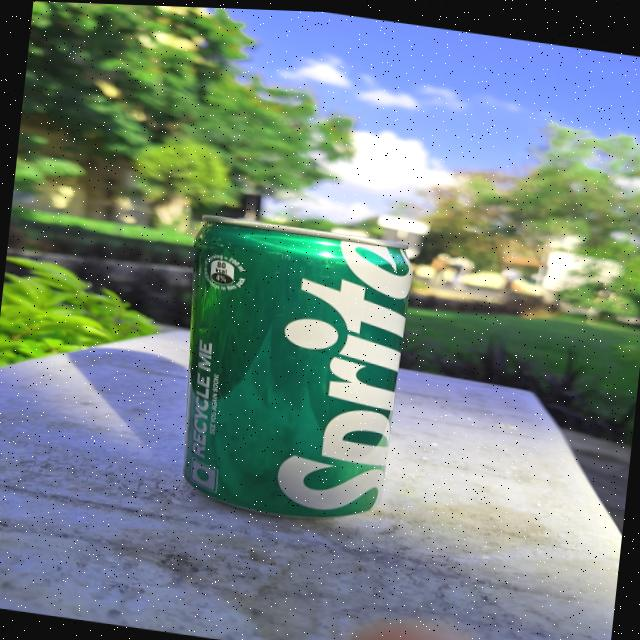Sprite: (168, 208, 420, 529)
